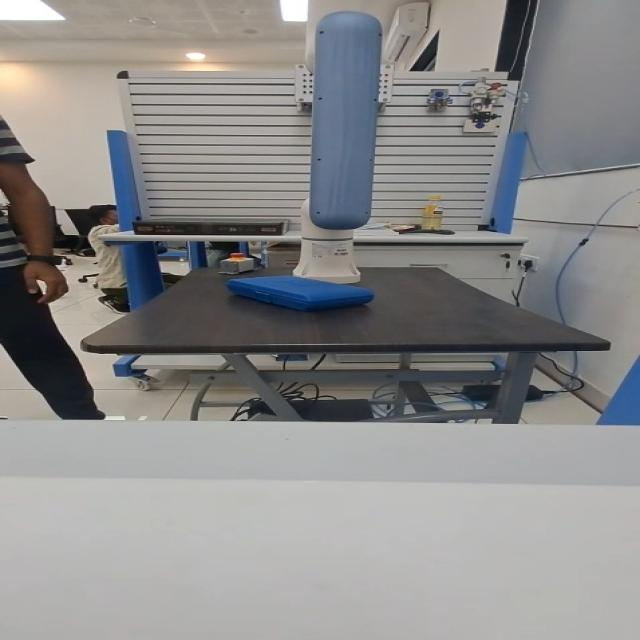top-surface: (240, 277, 360, 295)
